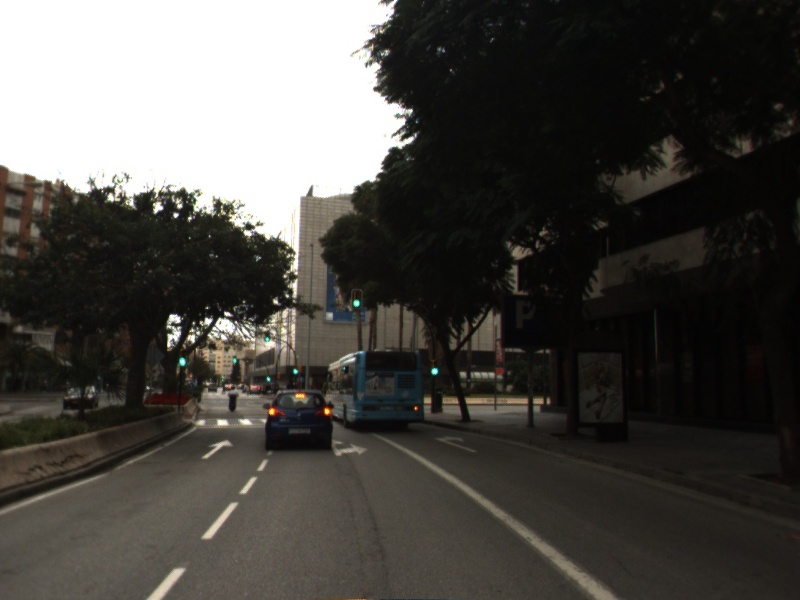RIGHT: (433, 433, 479, 455)
STRAIGHT: (199, 438, 236, 461)
STRAIGHT_RIGHT: (331, 437, 370, 458)
